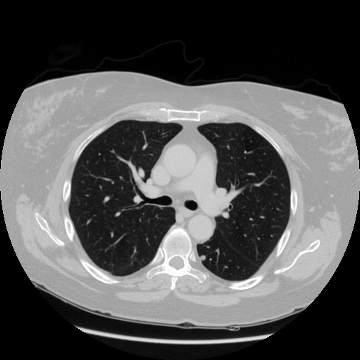nodule: (200, 255, 206, 261)
